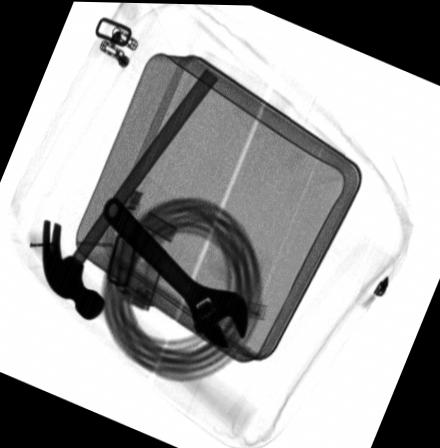Hammer: (42, 68, 218, 319)
Wrench: (103, 196, 247, 347)
